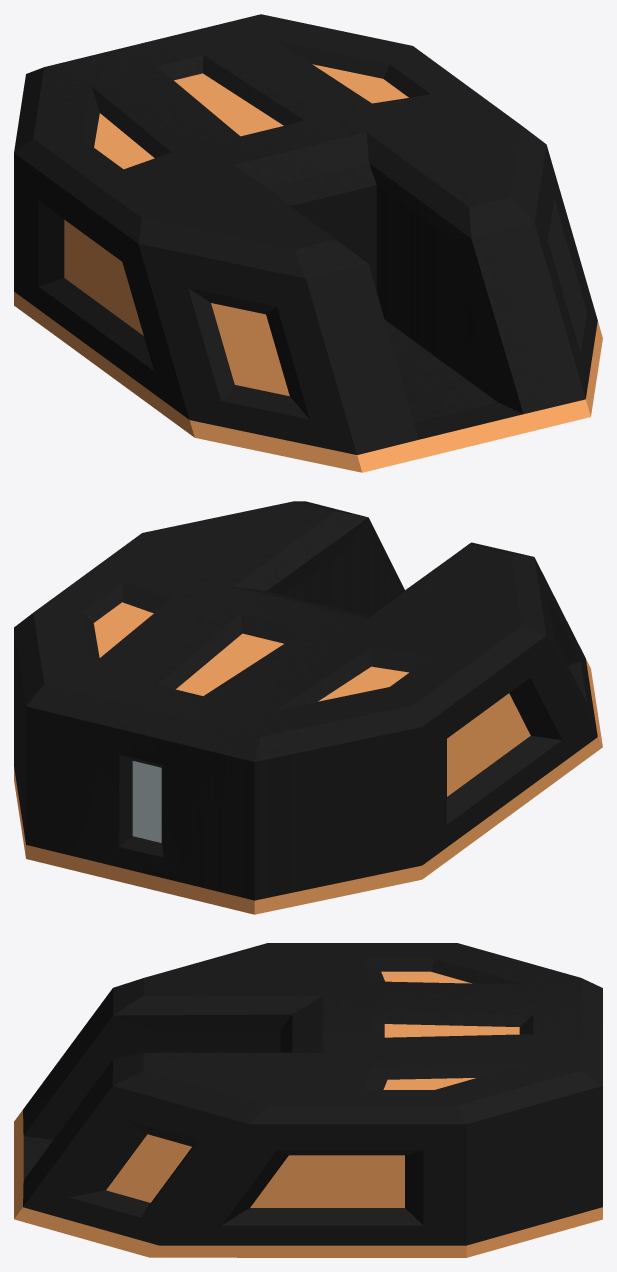
Rendered from YK_BS_Cannon_Body.obj.
The picture shows the model from 3 angles, top to bottom: view 1: azimuth 30°, elevation 25°; view 2: azimuth 150°, elevation 25°; view 3: azimuth 270°, elevation 25°; orthographic projection. The views are drawn at different scales.
Visible parts, largest first — view 1: Cube_Cube.006; view 2: Cube_Cube.006; view 3: Cube_Cube.006.
Part boxes in pixels (x1=…): Cube_Cube.006: x1=14, y1=14, x2=602, y2=472; Cube_Cube.006: x1=14, y1=501, x2=602, y2=914; Cube_Cube.006: x1=14, y1=943, x2=602, y2=1257.
Bounding box in the file's own units: 1.8 × 0.7048 × 2.57.
